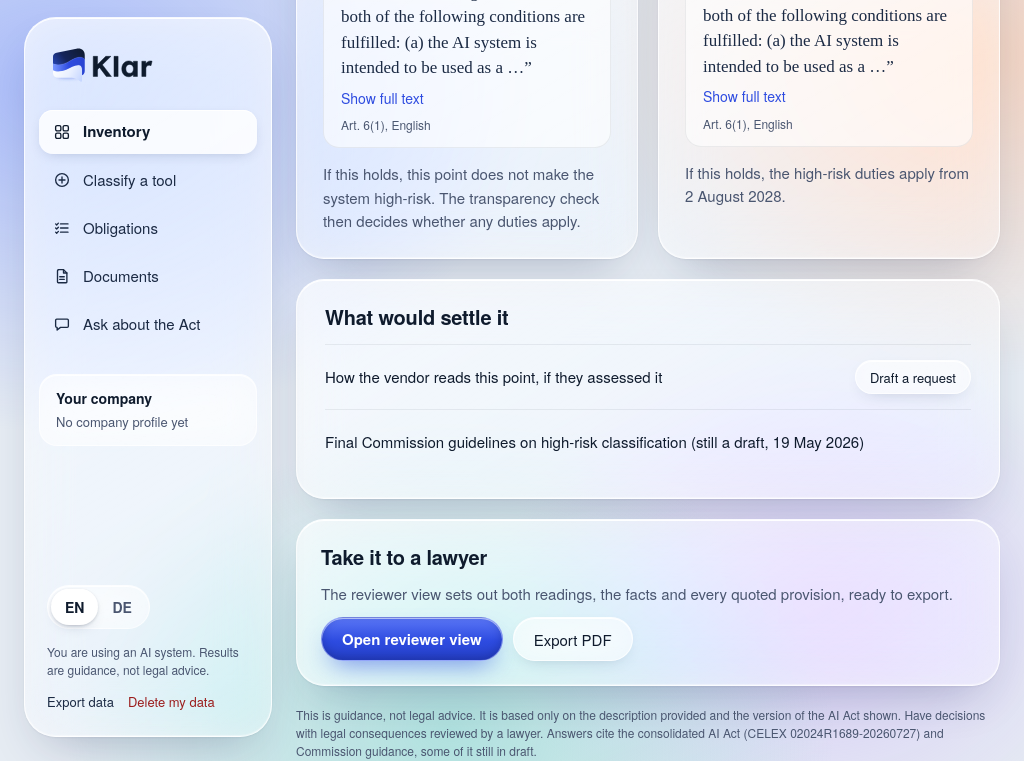
A legally ambiguous result (en) › has no accessibility violations (axe), on the screen and in the request
(page scrolled)
Click the button "Draft a request". click: click(913, 377)
box: [855,360,971,394]
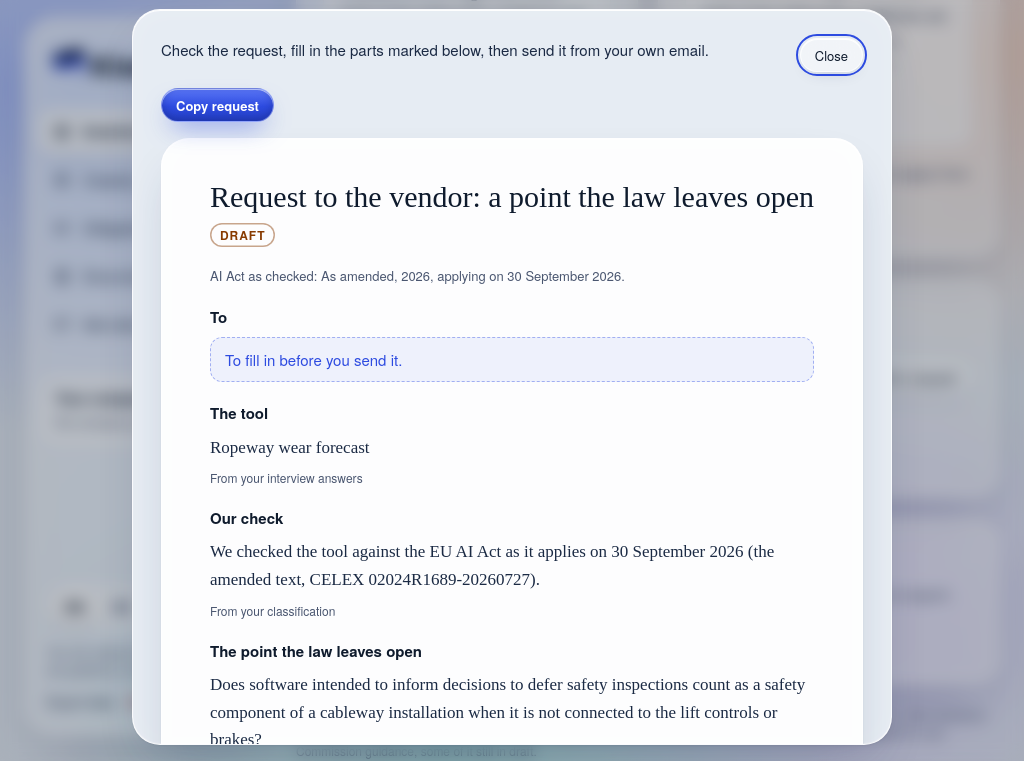
Expected: the button "Copy request" is shown, [161,88,274,122]
